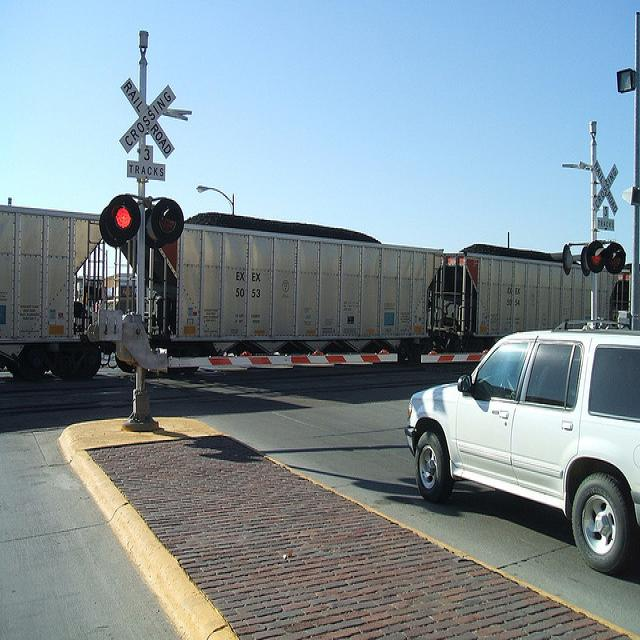Vehicle: (407, 333, 640, 569)
